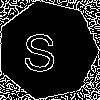S: (22, 25, 57, 72)
